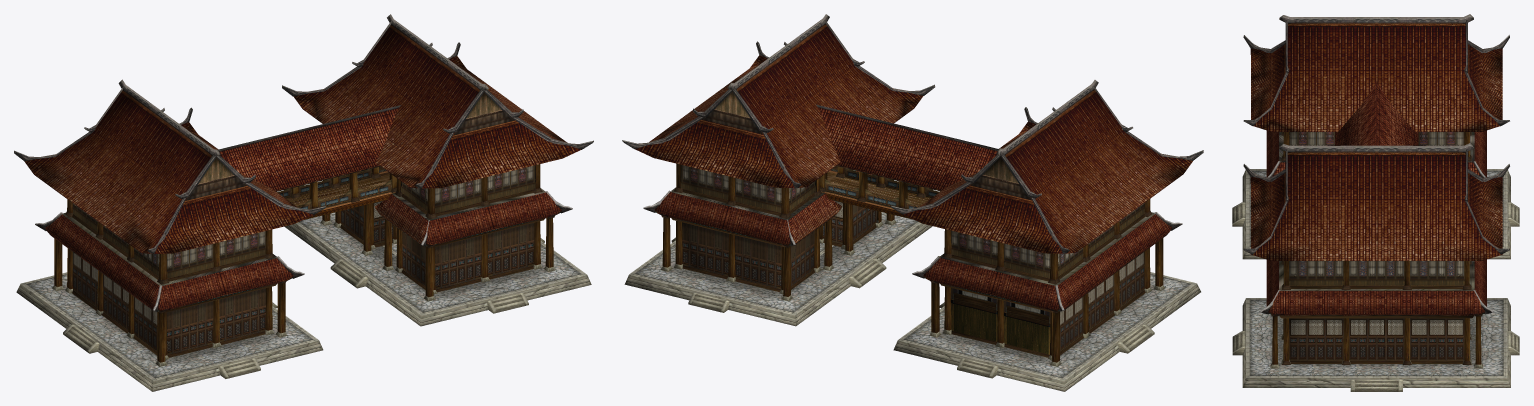
File: a1-009-hotel_lod_01.fbx
The picture shows the model from 3 angles, left to right: view 1: azimuth 30°, elevation 25°; view 2: azimuth 150°, elevation 25°; view 3: azimuth 270°, elevation 25°; orthographic projection.
Parts seen in each view (by area): view 1: a1-009-hotel01, a1-009-hotel02, a1-009-hotel03; view 2: a1-009-hotel01, a1-009-hotel03, a1-009-hotel02; view 3: a1-009-hotel01, a1-009-hotel02, a1-009-hotel03.
Boxes of the visible parts, x1,y1,x2,y2 form: a1-009-hotel01: (14, 14, 593, 254); a1-009-hotel02: (35, 105, 572, 354); a1-009-hotel03: (16, 164, 591, 391); a1-009-hotel01: (622, 14, 1203, 253); a1-009-hotel03: (624, 163, 1200, 391); a1-009-hotel02: (643, 104, 1182, 351); a1-009-hotel01: (1243, 14, 1509, 260); a1-009-hotel02: (1259, 82, 1493, 360); a1-009-hotel03: (1232, 132, 1519, 391).
Bounding box in the file's own units: 35.89 × 15.6 × 19.9.
